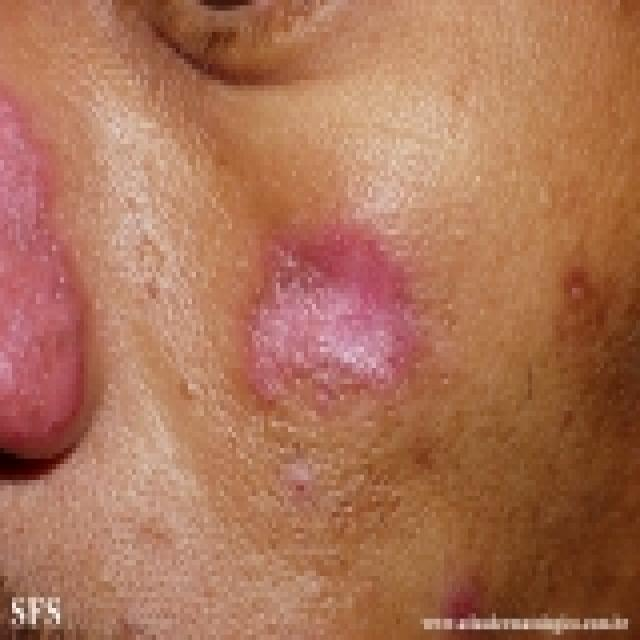lupus: (0, 91, 108, 469), (224, 229, 423, 428)
